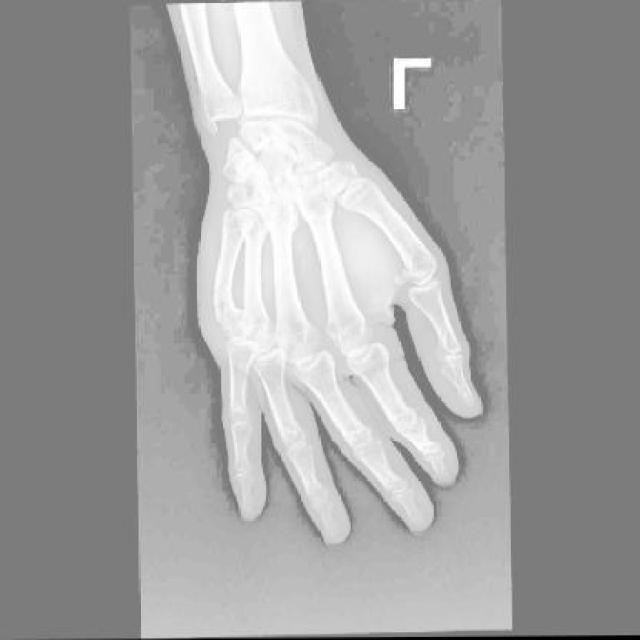Fracture: (209, 296, 248, 338)
